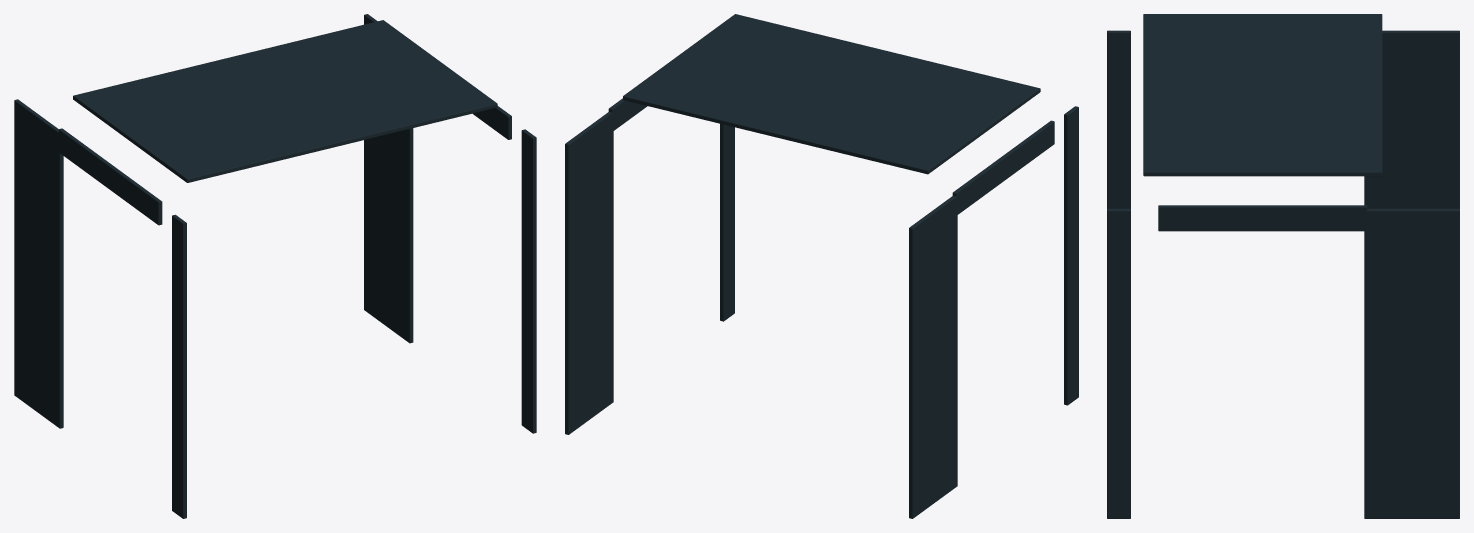
Rendered from enclosure.obj.
The picture shows the model from 3 angles, left to right: view 1: azimuth 30°, elevation 25°; view 2: azimuth 150°, elevation 25°; view 3: azimuth 270°, elevation 25°; orthographic projection. The views are drawn at different scales.
Parts seen in each view (by area): view 1: flex__enclosure__rear, flex__enclosure__side_lower, flex__enclosure__side_lower.001, flex__enclosure__side_top.001, flex__enclosure__side_top, flex__enclosure__side_back, flex__enclosure__side_back.001; view 2: flex__enclosure__rear, flex__enclosure__side_lower, flex__enclosure__side_lower.001, flex__enclosure__side_top, flex__enclosure__side_top.001, flex__enclosure__side_back, flex__enclosure__side_back.001; view 3: flex__enclosure__rear, flex__enclosure__side_lower.001, flex__enclosure__side_lower, flex__enclosure__side_top.001, flex__enclosure__side_back.001, flex__enclosure__side_top.
Part boxes in pixels (x1,y1,x2,y2): flex__enclosure__rear: (73, 20, 497, 182); flex__enclosure__side_lower: (14, 99, 63, 428); flex__enclosure__side_lower.001: (364, 14, 413, 343); flex__enclosure__side_top.001: (521, 129, 536, 433); flex__enclosure__side_top: (172, 214, 186, 518); flex__enclosure__side_back: (58, 128, 162, 225); flex__enclosure__side_back.001: (473, 106, 511, 139); flex__enclosure__rear: (623, 14, 1040, 174); flex__enclosure__side_lower: (909, 196, 957, 518); flex__enclosure__side_lower.001: (565, 112, 613, 434); flex__enclosure__side_top: (1064, 106, 1078, 405); flex__enclosure__side_top.001: (720, 124, 734, 321); flex__enclosure__side_back: (952, 120, 1054, 214); flex__enclosure__side_back.001: (608, 98, 647, 131); flex__enclosure__rear: (1143, 14, 1382, 176); flex__enclosure__side_lower.001: (1364, 208, 1459, 518); flex__enclosure__side_lower: (1364, 30, 1459, 208); flex__enclosure__side_top.001: (1107, 208, 1130, 518); flex__enclosure__side_back.001: (1158, 205, 1367, 231); flex__enclosure__side_top: (1107, 30, 1130, 208).
Size of the model in its own units: 0.714 by 0.621 by 0.591.
